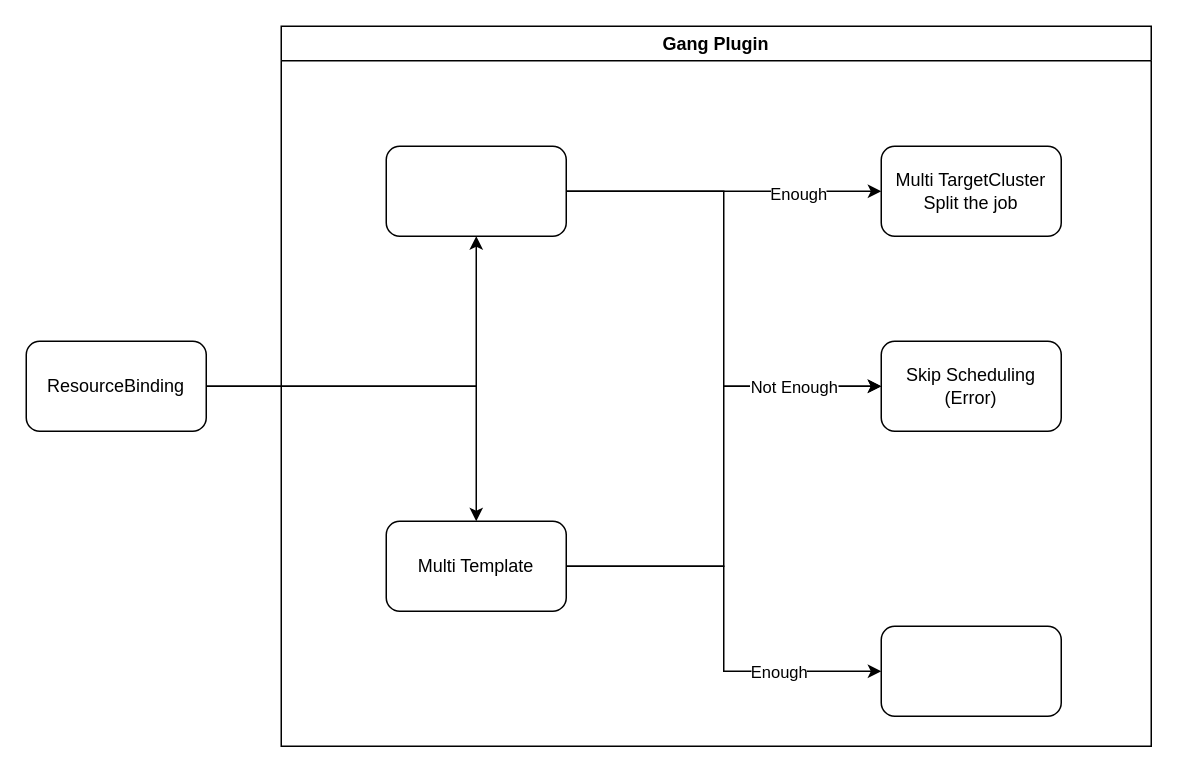
Some shapes in this 1178 by 773 pixel diagram are drawn without their labels. The centre of each missing label's shape, as x and y in pixels:
Single TargetCluster No Partition: [970,670]
Single Template: [475,190]
